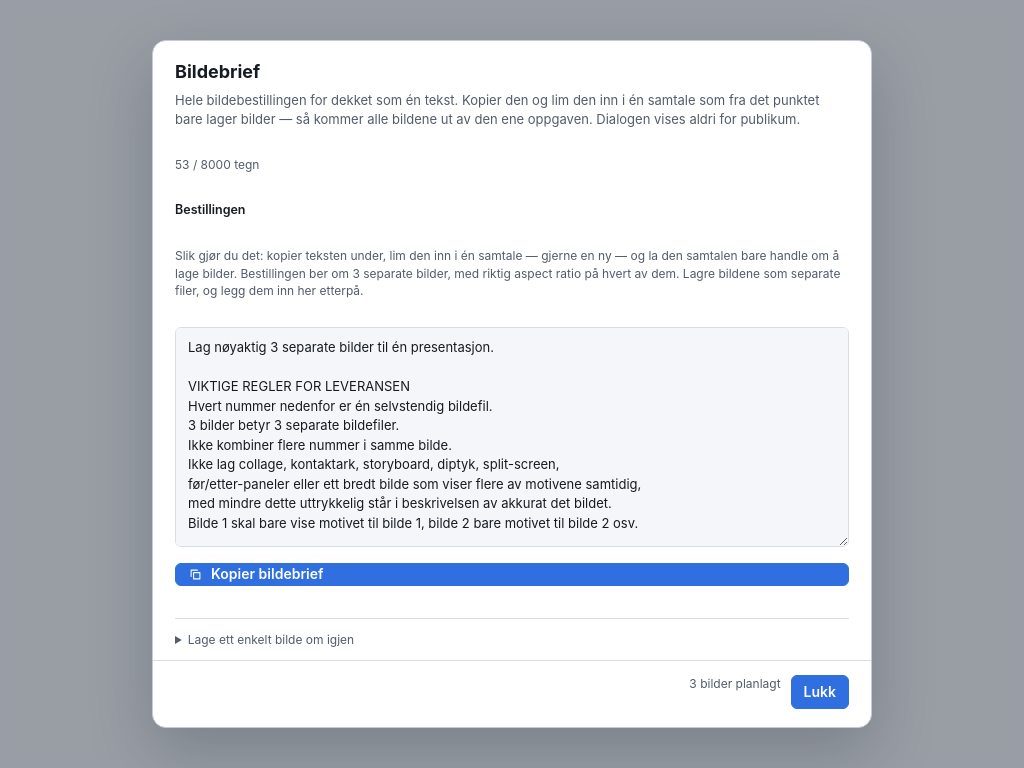
ImageBriefModal › tilbyr den samme teksten til å merke når nettleseren nekter å kopiere
(page scrolled)
Click the button with test id "image-brief-modal-copy" at coordinates (267, 574), box [175,563,849,586]
(page scrolled)
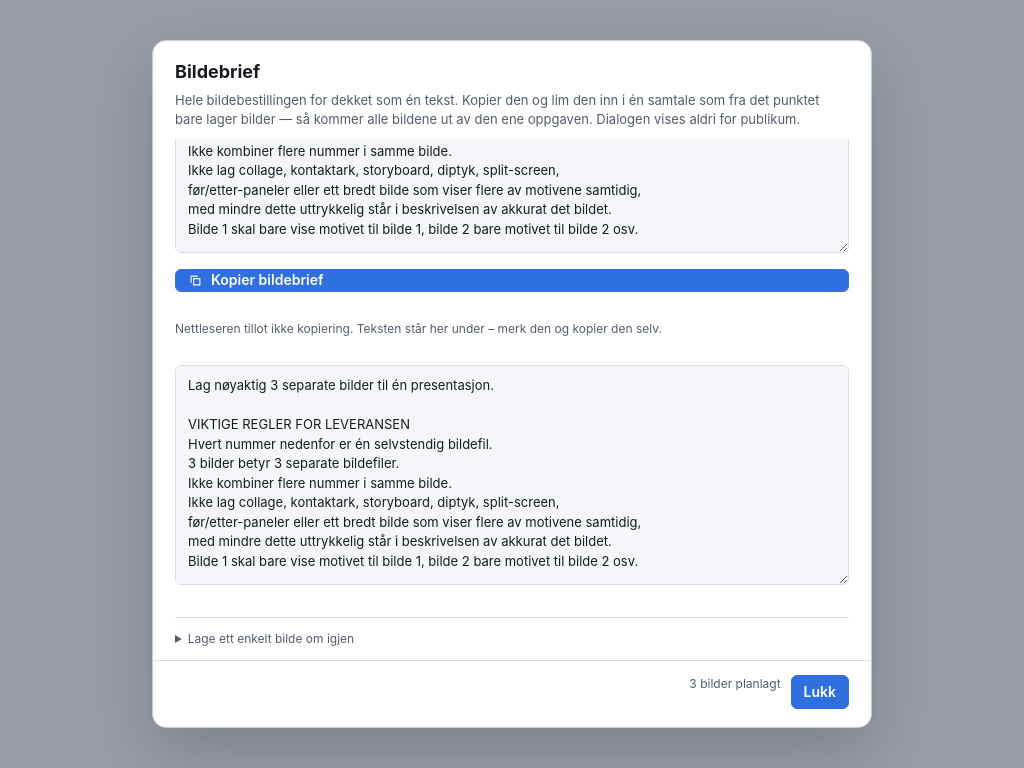
Expected: the text with test id "image-brief-modal-copy-failed" shows "tillot ikke kopiering", [175,321,662,336]
